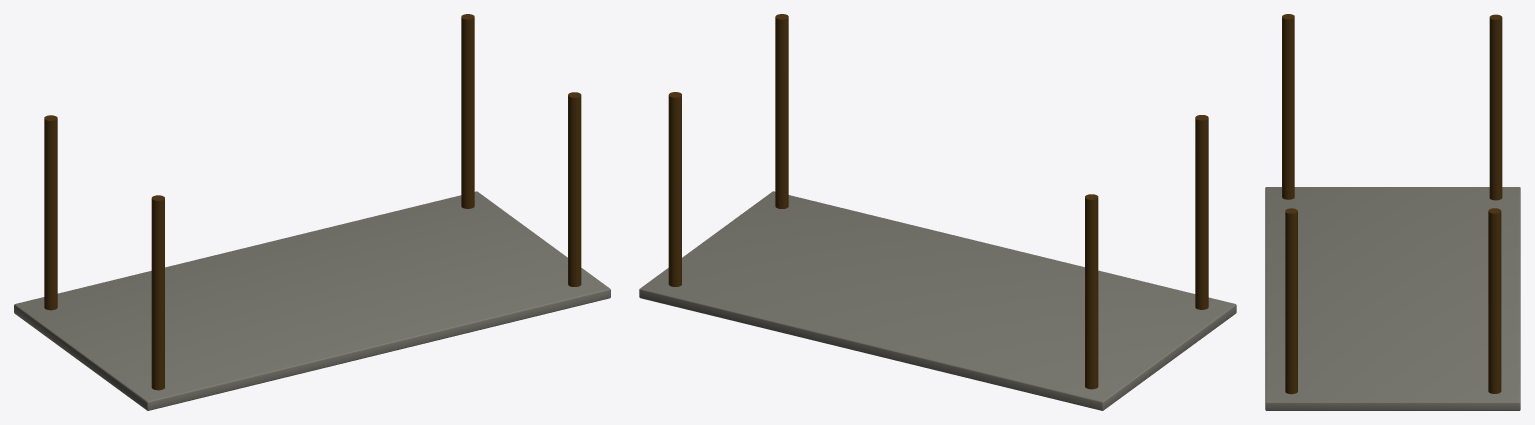
The model's file is table2.FBX.
3 views of the same model, side by side, from view 1: azimuth 30°, elevation 25°; view 2: azimuth 150°, elevation 25°; view 3: azimuth 270°, elevation 25° (orthographic). The views are drawn at different scales.
Visible parts, largest first — view 1: ChamferBox001, Cylinder003, Cylinder001, Cylinder004, Cylinder002; view 2: ChamferBox001, Cylinder003, Cylinder001, Cylinder002, Cylinder004; view 3: ChamferBox001, Cylinder003, Cylinder004, Cylinder001, Cylinder002.
Boxes of the visible parts, x1=… form: ChamferBox001: x1=14, y1=191, x2=610, y2=410; Cylinder003: x1=44, y1=115, x2=57, y2=310; Cylinder001: x1=151, y1=195, x2=164, y2=390; Cylinder004: x1=461, y1=14, x2=474, y2=208; Cylinder002: x1=568, y1=92, x2=581, y2=286; ChamferBox001: x1=639, y1=191, x2=1236, y2=410; Cylinder003: x1=1085, y1=194, x2=1098, y2=389; Cylinder001: x1=1195, y1=115, x2=1208, y2=309; Cylinder002: x1=775, y1=14, x2=788, y2=208; Cylinder004: x1=668, y1=92, x2=681, y2=286; ChamferBox001: x1=1265, y1=187, x2=1520, y2=410; Cylinder003: x1=1489, y1=14, x2=1502, y2=200; Cylinder004: x1=1488, y1=208, x2=1501, y2=393; Cylinder001: x1=1282, y1=14, x2=1294, y2=199; Cylinder002: x1=1285, y1=208, x2=1297, y2=394.
Bounding box in the file's own units: 2000 × 821 × 1000.
